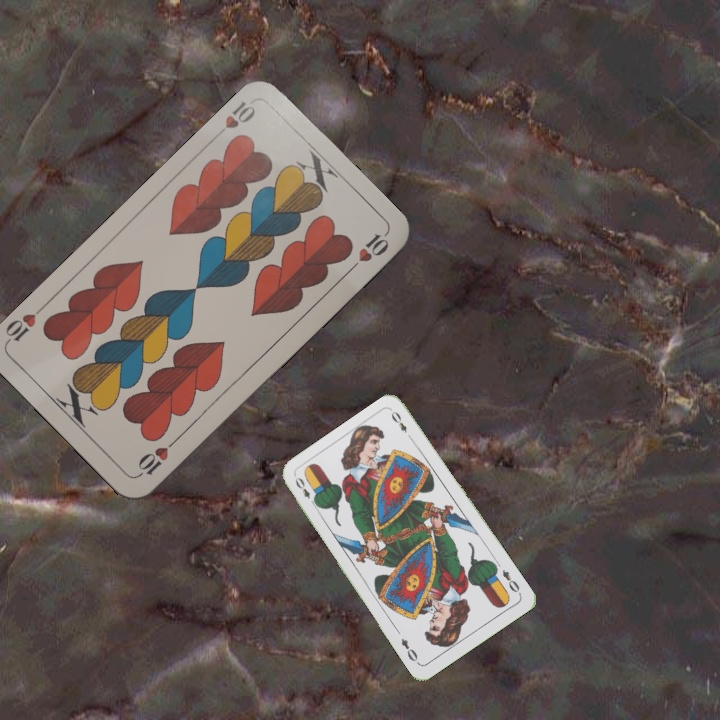EO: (291, 473, 319, 509), (498, 566, 524, 597)
H10: (133, 434, 181, 479), (210, 97, 258, 142)
